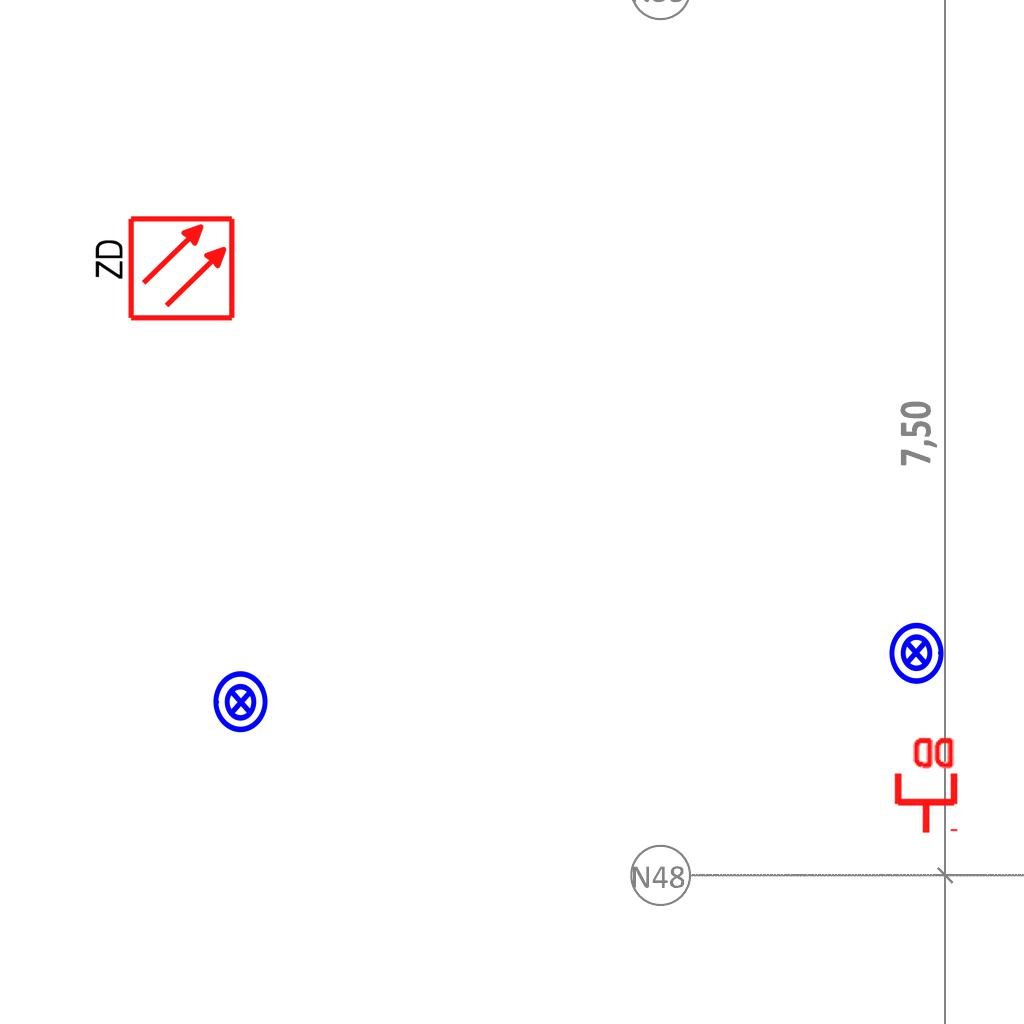Datenanschluss_zweifach: (890, 733, 959, 836)
Taster_beleuchtet: (883, 620, 949, 686), (208, 669, 274, 735)
ZD_Melder_in_Zwischendecke_mit_Revisionsoeffnung_mind_40_x_40_cm: (88, 213, 237, 327)
